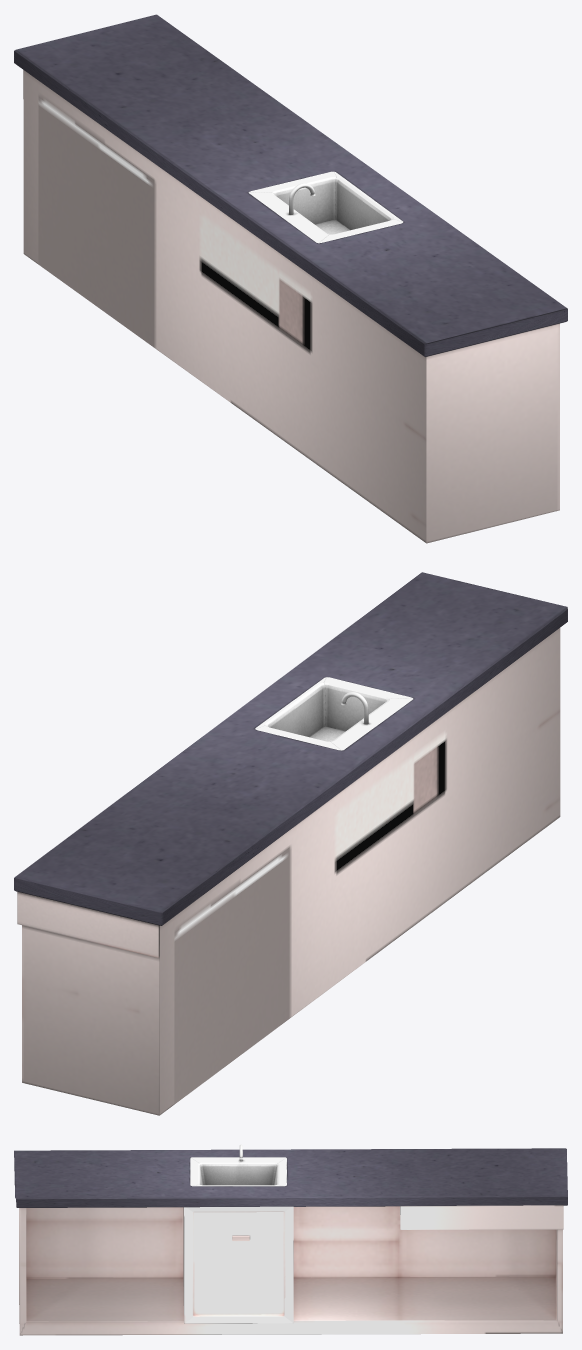
Rendered from kitchen_counter.glb.
3 renders of one model, top to bottom at view 1: azimuth 30°, elevation 25°; view 2: azimuth 150°, elevation 25°; view 3: azimuth 270°, elevation 25°, orthographic. The views are drawn at different scales.
Visible parts, largest first — view 1: frl_apartment_lower_shelf_01, frl_apartment_sink; view 2: frl_apartment_lower_shelf_01, frl_apartment_sink; view 3: frl_apartment_lower_shelf_01, frl_apartment_lower_shelf_01_part_03, frl_apartment_sink.
Boxes of the visible parts, <box> form: frl_apartment_lower_shelf_01: <box>14,14,567,543</box>; frl_apartment_sink: <box>248,171,403,243</box>; frl_apartment_lower_shelf_01: <box>14,572,567,1115</box>; frl_apartment_sink: <box>255,677,413,750</box>; frl_apartment_lower_shelf_01: <box>14,1148,567,1335</box>; frl_apartment_lower_shelf_01_part_03: <box>183,1206,293,1323</box>; frl_apartment_sink: <box>190,1144,286,1186</box>.
Size of the model in its own units: 0.669 by 0.9788 by 3.11.
2 materials, 2 textured.
